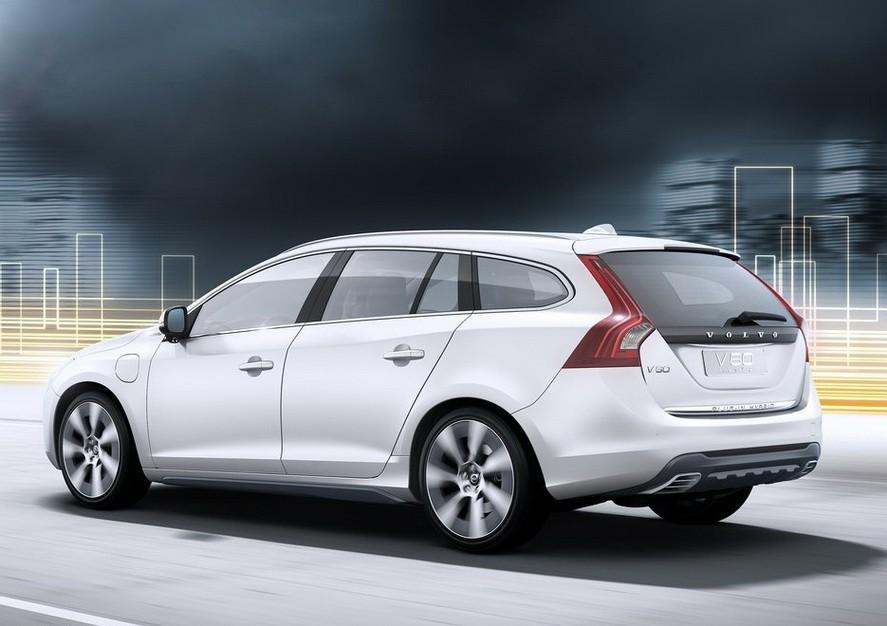Wagon: (44, 230, 822, 555)
